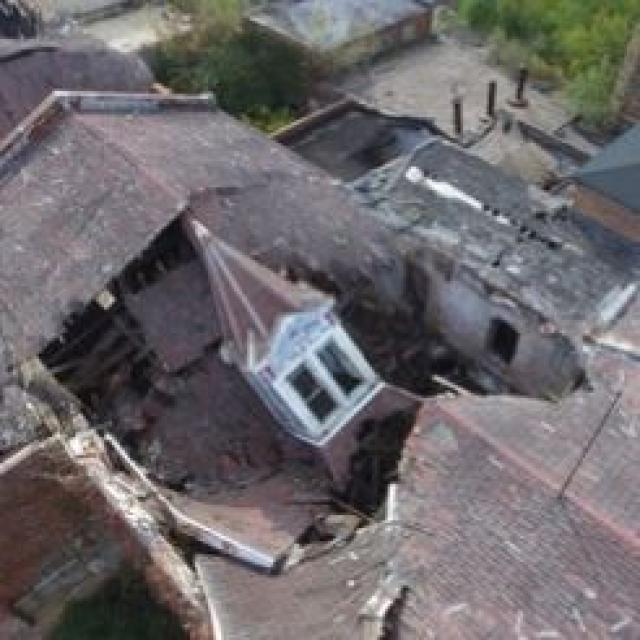collapsed_building: (19, 97, 612, 638)
